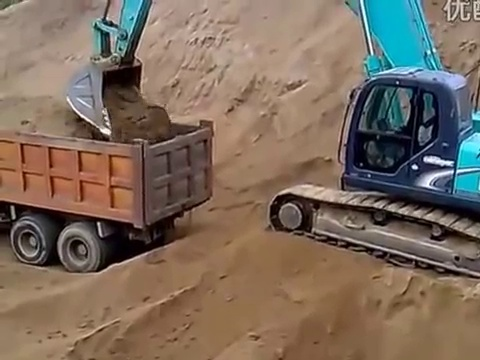truck: (65, 1, 480, 280), (1, 119, 215, 272)
